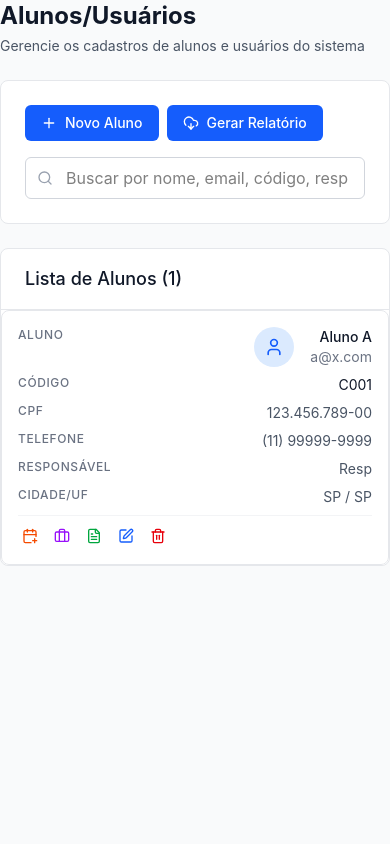
Students page › opens referrals modal when Encaminhamentos action clicked
What coordinates should you click on to do the following:
click the button titled "Encaminhamentos"
I would click on:
 (62, 536)
Its box is x1=50 y1=524 x2=74 y2=548.
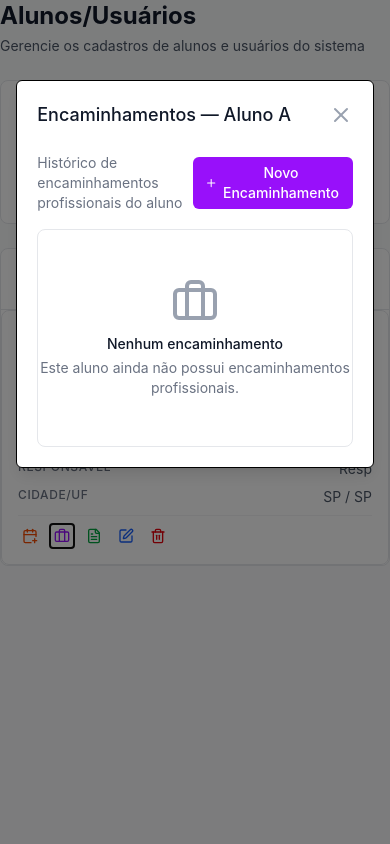
Now the heading "Encaminhamentos — Aluno A" is shown, box x1=37 y1=101 x2=291 y2=129
